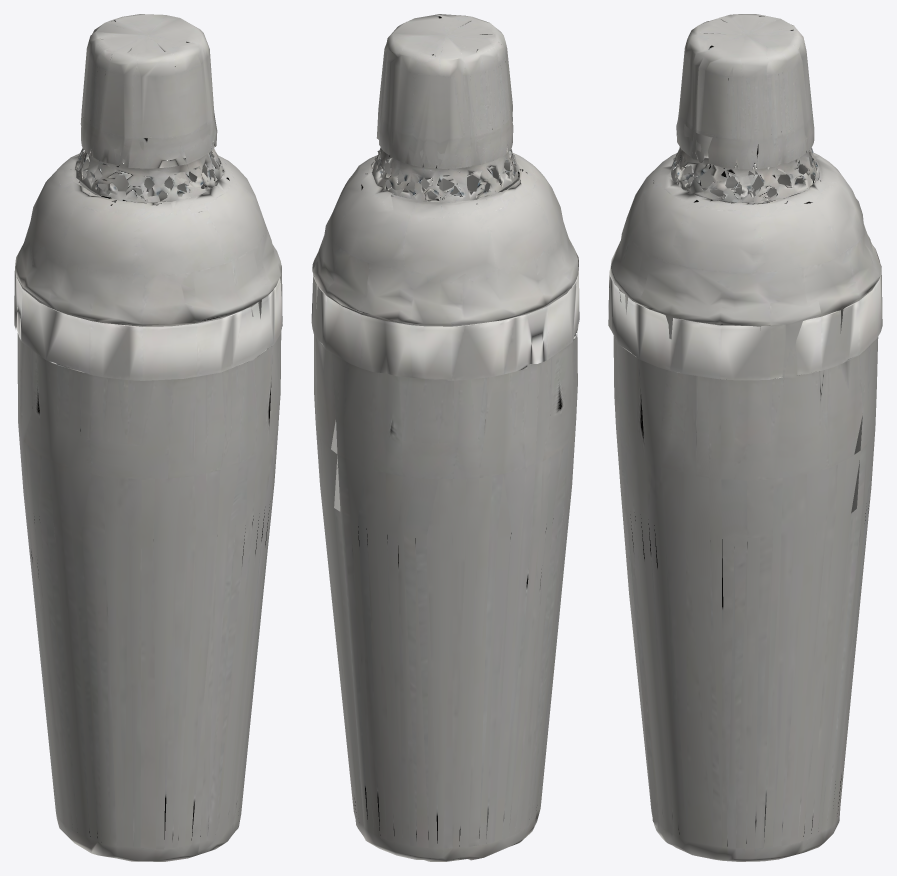
Rendered from mobile.glb.
3 renders of one model, left to right at view 1: azimuth 30°, elevation 25°; view 2: azimuth 150°, elevation 25°; view 3: azimuth 270°, elevation 25°, orthographic.
Parts seen in each view (by area): view 1: shaker; view 2: shaker; view 3: shaker.
Boxes of the visible parts, x1=… form: shaker: x1=14, y1=14, x2=282, y2=861; shaker: x1=311, y1=14, x2=579, y2=861; shaker: x1=608, y1=14, x2=882, y2=861.
Bounding box in the file's own units: 0.0762 × 0.25 × 0.0784.
Materials: 1 (1 with a texture image).
